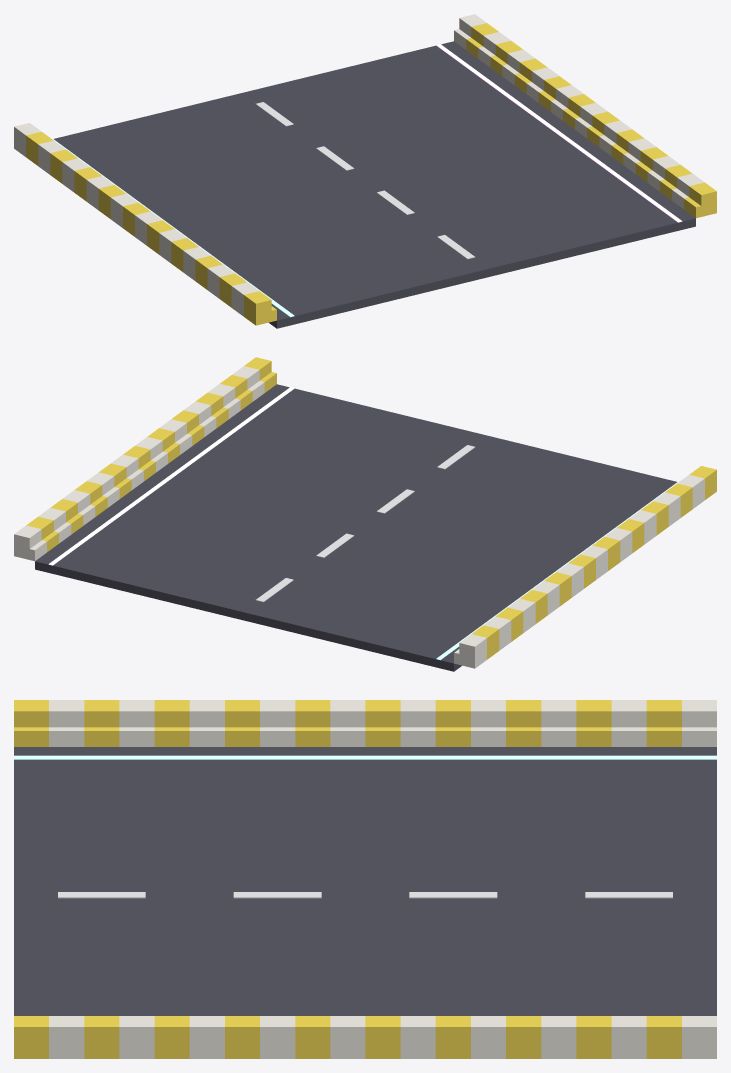
Rendered from T01_Straight.glb.
3 views of the same model, one above another, from view 1: azimuth 30°, elevation 25°; view 2: azimuth 150°, elevation 25°; view 3: azimuth 270°, elevation 25° (orthographic). The views are drawn at different scales.
Parts seen in each view (by area): view 1: T01_Straight_Mesh; view 2: T01_Straight_Mesh; view 3: T01_Straight_Mesh.
Part boxes in pixels (<box>): T01_Straight_Mesh: <box>14,14,716,328</box>; T01_Straight_Mesh: <box>14,357,716,671</box>; T01_Straight_Mesh: <box>14,700,716,1058</box>.
Size of the model in its own units: 8.8 by 0.55 by 8.
